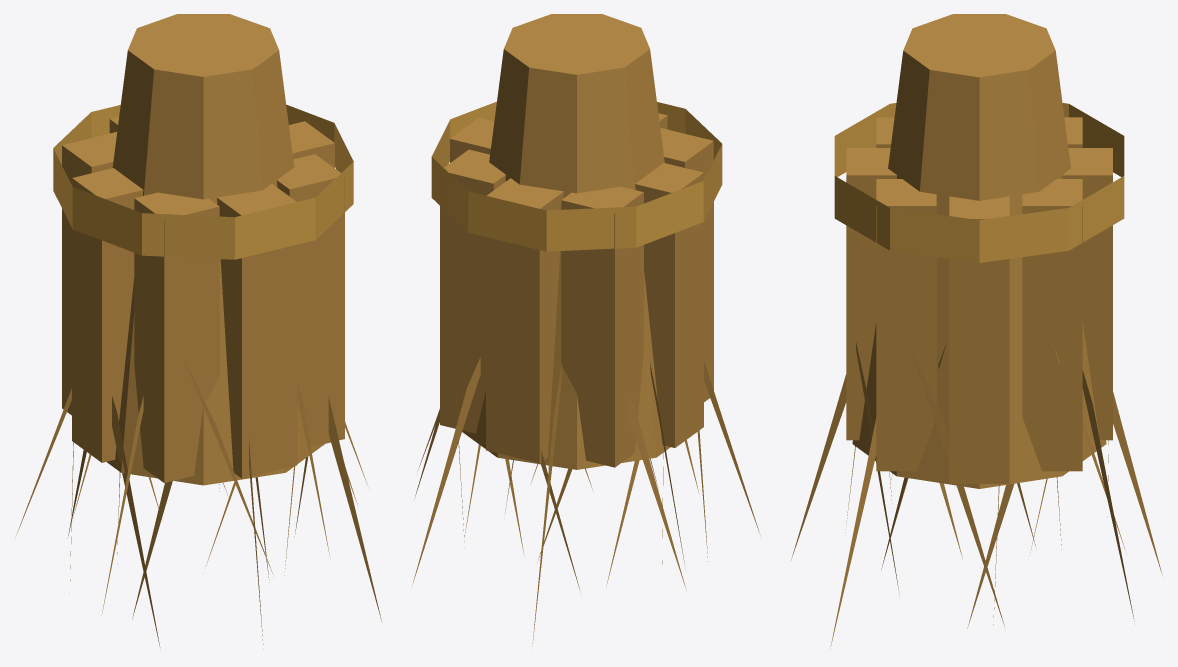
The model's file is custom_broom_cerdas_basic.obj.
The picture shows the model from 3 angles, left to right: view 1: azimuth 30°, elevation 25°; view 2: azimuth 150°, elevation 25°; view 3: azimuth 270°, elevation 25°; orthographic projection. The views are drawn at different scales.
Bounding box in the file's own units: 0.4301 × 0.714 × 0.4341.
